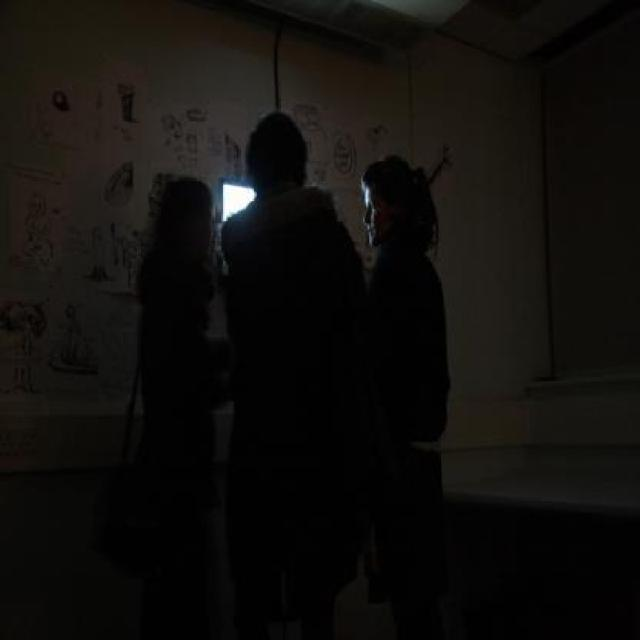Person: (210, 101, 368, 638), (127, 167, 236, 638), (352, 152, 454, 639)
